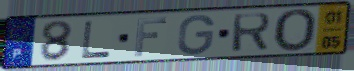8: (39, 20, 74, 64)
F: (133, 16, 169, 58)
G: (176, 13, 217, 57)
L: (80, 19, 113, 60)
O: (272, 7, 320, 54)
R: (230, 11, 273, 54)
